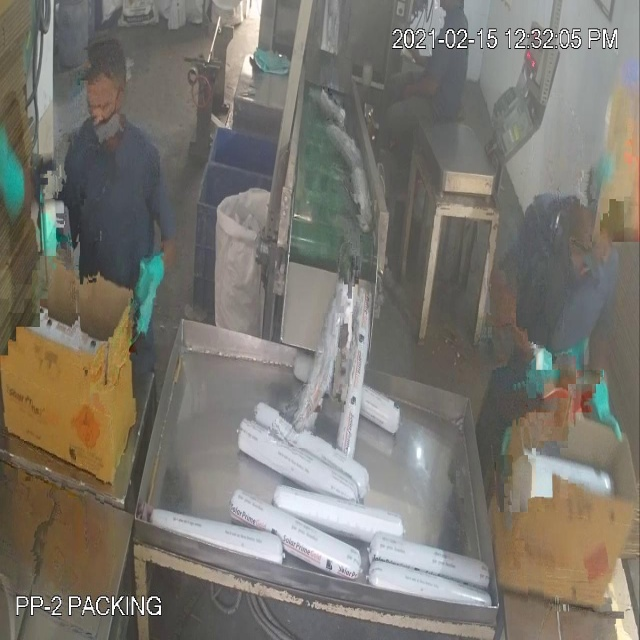Guantes: (117, 231, 168, 326)
Sin_guantes: (388, 57, 468, 115)
